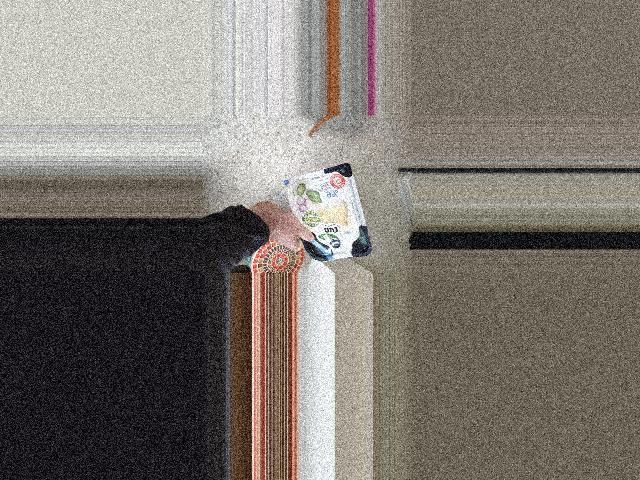cheese: (284, 168, 372, 262)
